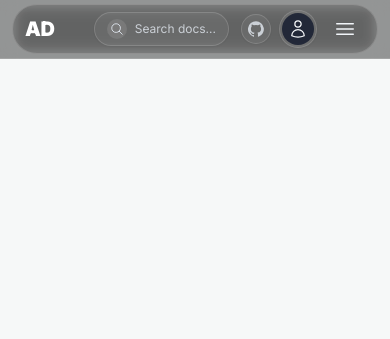
it: Navbar docs search › navigating to a document from search adds it to recent documents and persists it
The image size is (390, 339).
Click the button "Search docs..." at coordinates (161, 29), box [94,12,229,46]
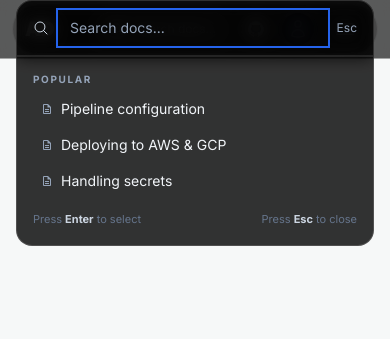
// Filter down to the Logs API doc.
Type "logs" into the field with placeholder "Search docs..." at coordinates (193, 28), box [57,9,329,47]
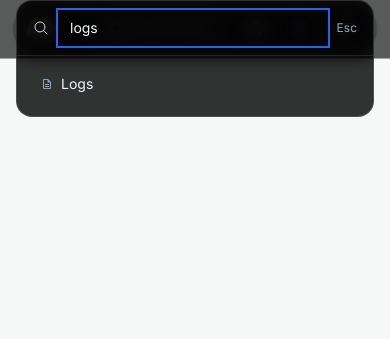
Click the button "Logs" at coordinates (77, 84), box [33,68,357,100]
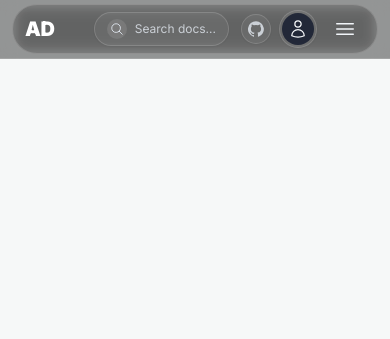
// Re-open search to verify the Logs doc appears under Recent.
Click the button "Search docs..." at coordinates (161, 29), box [94,12,229,46]
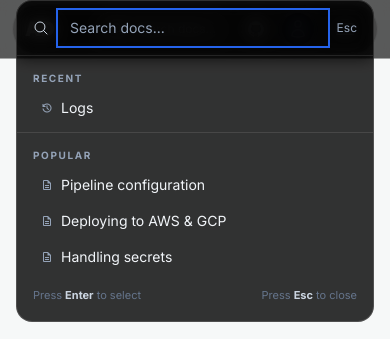
Check: the text "Recent" is shown, box [33,72,83,84]
Check: the button "Logs" is shown, box [33,92,357,124]
